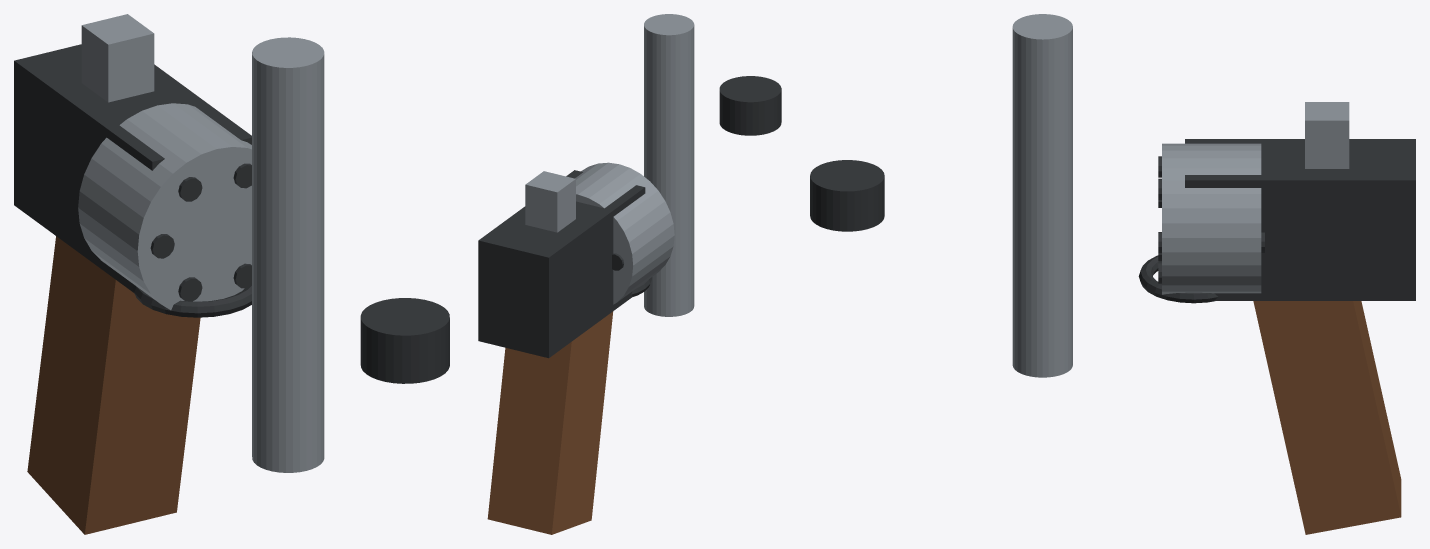
File: revolver.glb
The picture shows the model from 3 angles, left to right: view 1: azimuth 30°, elevation 25°; view 2: azimuth 150°, elevation 25°; view 3: azimuth 270°, elevation 25°; orthographic projection. The views are drawn at different scales.
Parts seen in each view (by area): view 1: Grip, Barrel, Cylinder, Frame, Muzzle, Hammer, TriggerGuard; view 2: Grip, Frame, Barrel, Cylinder, Muzzle, Hammer; view 3: Frame, Grip, Barrel, Cylinder, Muzzle, Hammer, TriggerGuard.
Part boxes in pixels (x1=…): Grip: x1=27, y1=236, x2=200, y2=534; Barrel: x1=252, y1=37, x2=324, y2=472; Cylinder: x1=78, y1=103, x2=251, y2=310; Frame: x1=14, y1=44, x2=251, y2=292; Muzzle: x1=360, y1=298, x2=449, y2=383; Hammer: x1=81, y1=14, x2=154, y2=102; TriggerGuard: x1=132, y1=285, x2=251, y2=317; Grip: x1=487, y1=311, x2=613, y2=534; Frame: x1=478, y1=170, x2=645, y2=358; Barrel: x1=644, y1=14, x2=694, y2=316; Cylinder: x1=575, y1=162, x2=674, y2=304; Muzzle: x1=719, y1=76, x2=781, y2=135; Hammer: x1=525, y1=171, x2=575, y2=232; Frame: x1=1185, y1=139, x2=1415, y2=300; Grip: x1=1253, y1=301, x2=1401, y2=534; Barrel: x1=1012, y1=14, x2=1072, y2=377; Cylinder: x1=1162, y1=143, x2=1261, y2=294; Muzzle: x1=810, y1=160, x2=884, y2=231; Hammer: x1=1305, y1=102, x2=1349, y2=168; TriggerGuard: x1=1138, y1=255, x2=1217, y2=303.
Bounding box in the file's own units: 0.086 × 0.304 × 0.341.
